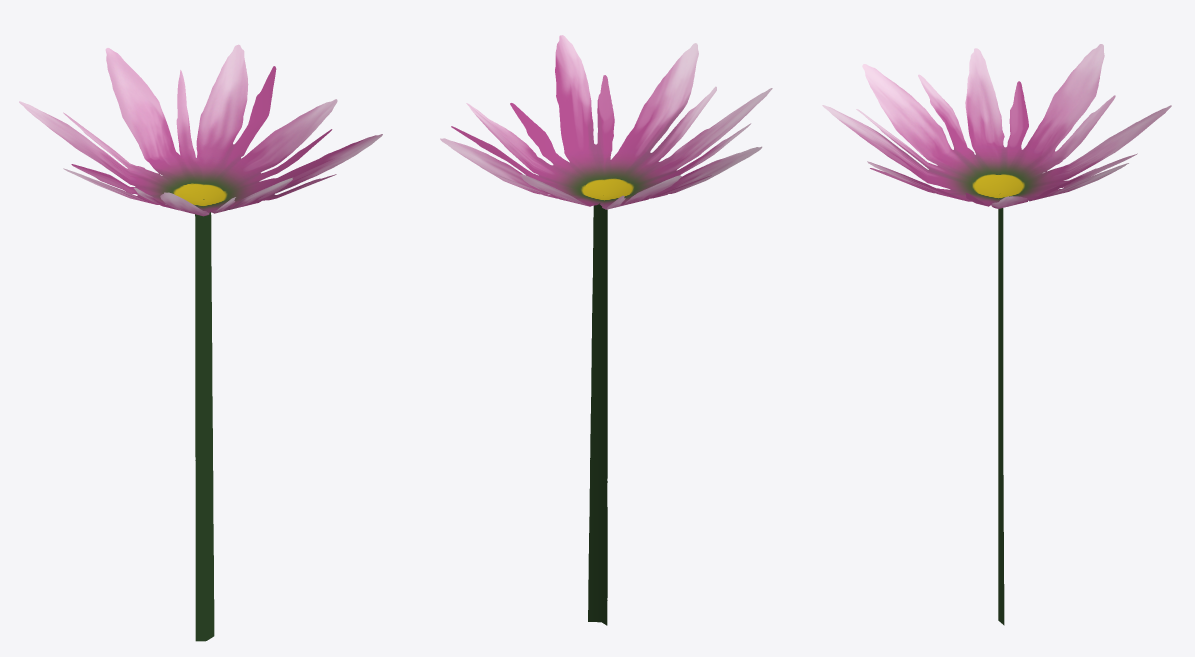
File: Flower_Violet.fbx
3 views of the same model, side by side, from view 1: azimuth 30°, elevation 25°; view 2: azimuth 150°, elevation 25°; view 3: azimuth 270°, elevation 25° (orthographic). The views are drawn at different scales.
Parts seen in each view (by area): view 1: polySurface122; view 2: polySurface122; view 3: polySurface122.
Part boxes in pixels (bbox=[...]): polySurface122: bbox=[19, 44, 382, 641]; polySurface122: bbox=[440, 35, 772, 625]; polySurface122: bbox=[822, 44, 1171, 625].
Size of the model in its own units: 0.3619 by 0.4898 by 0.3134.
